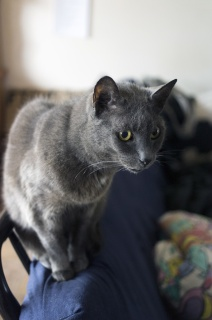Cat: (1, 77, 176, 279)
